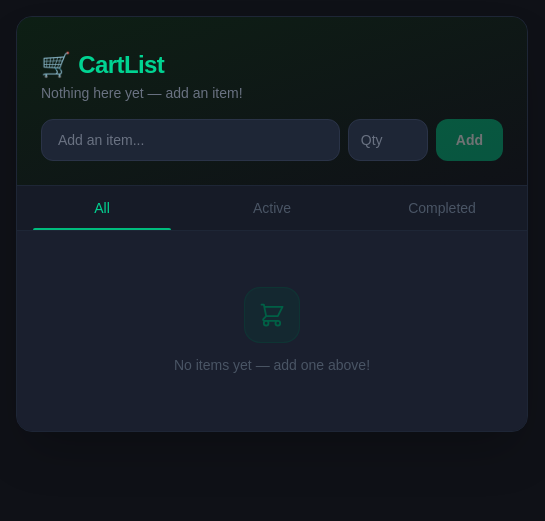
TodoApp › Empty state › renders empty state for Active filter when all items are complete
Type "Done task" into the field with placeholder "Add an item...".
click(190, 140); type("Done task")  # box [41,119,340,161]
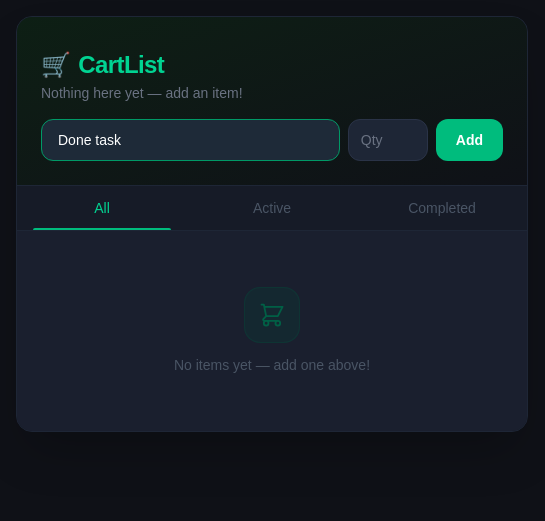
Press Enter
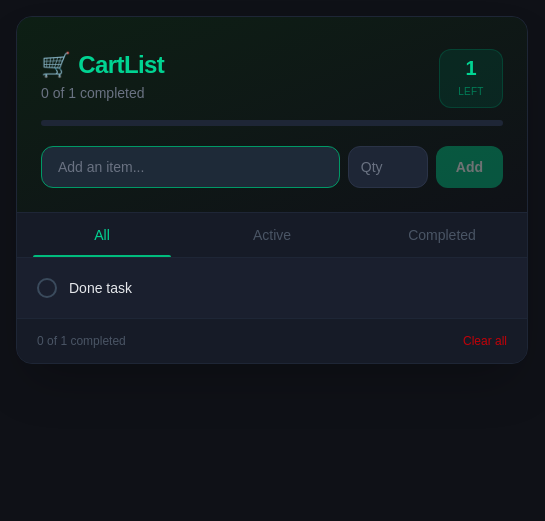
Click the button named "Mark as complete".
click(47, 288)  # box [37,278,57,298]
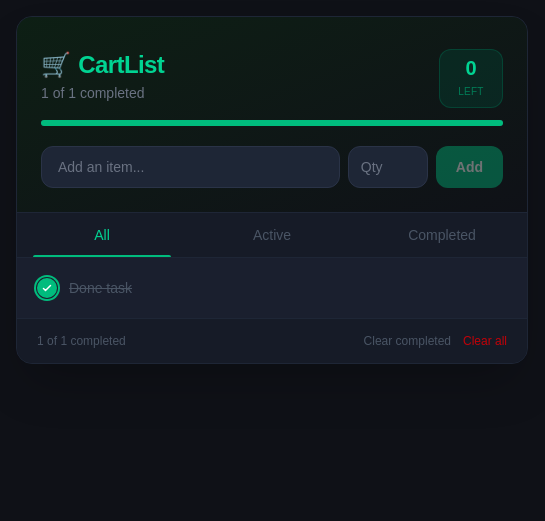
Click the button "Active".
click(272, 235)  # box [187,213,357,257]
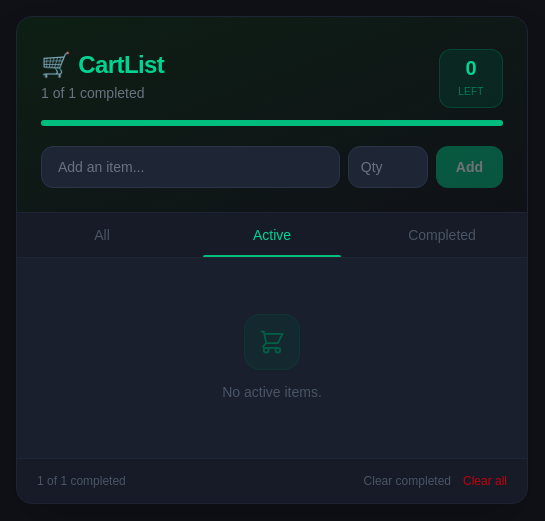
Expected: the text "No active items." is shown, [222,382,322,402]
